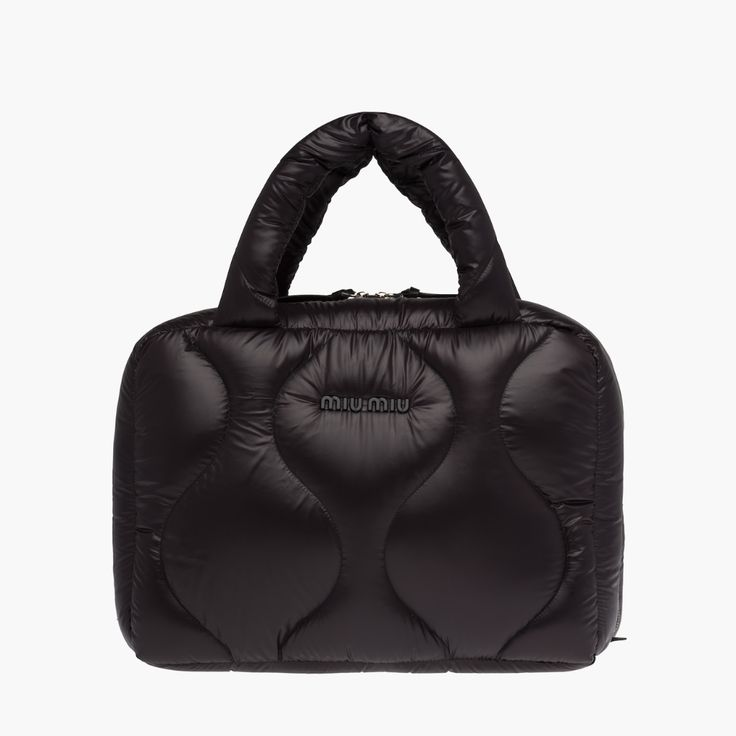nylon: (111, 112, 625, 673)
